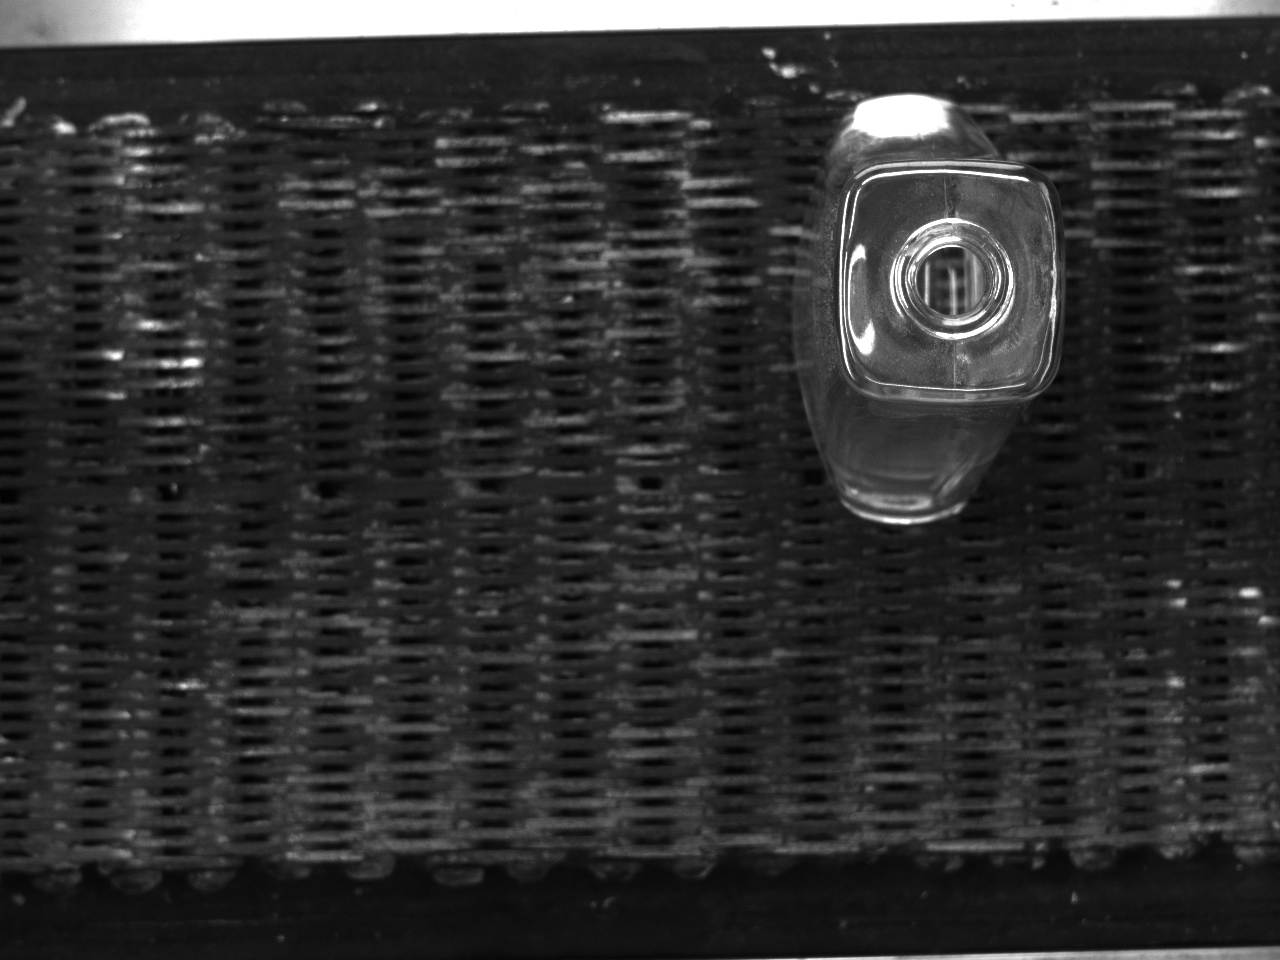bottleneck: (890, 218, 1016, 338)
